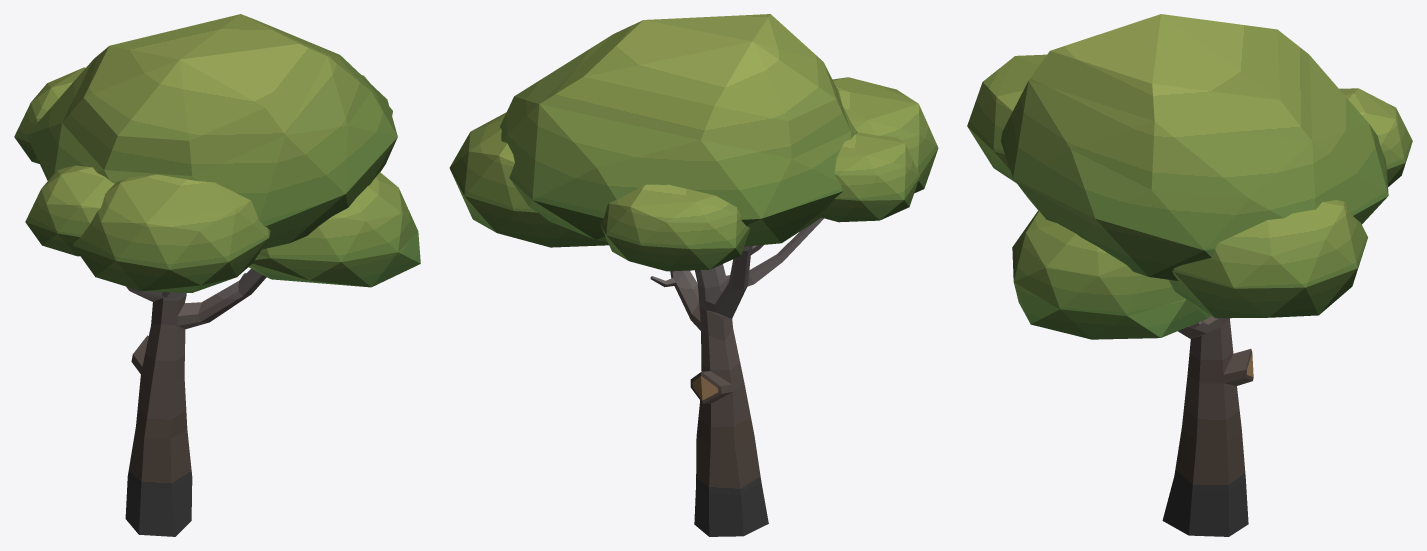
Rendered from Oak.fbx.
3 views of the same model, side by side, from view 1: azimuth 30°, elevation 25°; view 2: azimuth 150°, elevation 25°; view 3: azimuth 270°, elevation 25° (orthographic). The views are drawn at different scales.
Visible parts, largest first — view 1: Oak; view 2: Oak; view 3: Oak.
Part boxes in pixels (x1,y1,x2,y2): Oak: [14, 14, 420, 536]; Oak: [449, 14, 938, 536]; Oak: [967, 14, 1412, 536].
Bounding box in the file's own units: 14.02 × 15.88 × 12.61.
